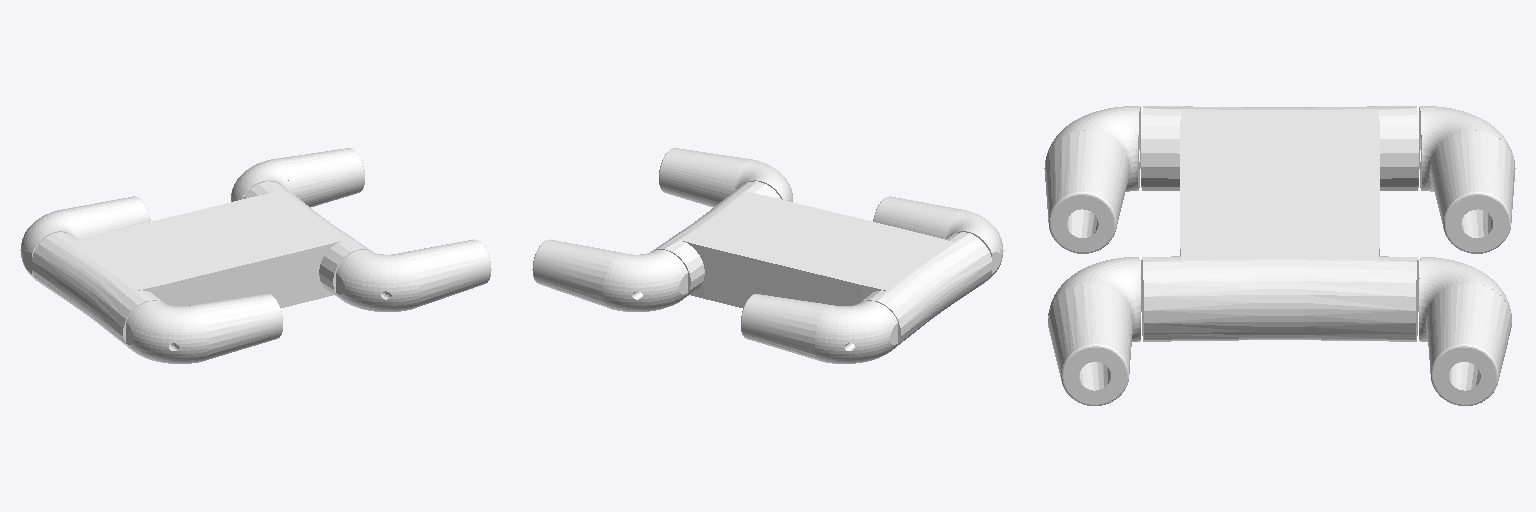
URDF robot description (2_degree):
<?xml version="1.0" encoding="utf-8"?>
<!-- This URDF was automatically created by SolidWorks to URDF Exporter! Originally created by [author] ([email redacted]) 
     Commit Version: 1.5.1-0-g916b5db  Build Version: 1.5.7152.31018
     For more information, please see http://wiki.ros.org/sw_urdf_exporter -->
<robot
  name="2_degree">
  <link
    name="base_link">
    <inertial>
      <origin
        xyz="3.4694E-17 9.4444E-09 -6.9389E-18"
        rpy="0 0 0" />
      <mass
        value="2.803" />
      <inertia
        ixx="0.010335444"
        ixy="2.1015E-18"
        ixz="-8.8627E-11"
        iyy="0.035324743"
        iyz="-1.9607E-18"
        izz="0.04329909" />
    </inertial>
    <visual>
      <origin
        xyz="0 0 0"
        rpy="0 0 0" />
      <geometry>
        <mesh
          filename="package://2_degree/meshes/base_link.STL" />
      </geometry>
      <material
        name="">
        <color
          rgba="1 1 1 1" />
      </material>
    </visual>
    <collision>
      <origin
        xyz="0 0 0"
        rpy="0 0 0" />
      <geometry>
        <mesh
          filename="package://2_degree/meshes/base_link.STL" />
      </geometry>
    </collision>
  </link>
  <link
    name="left_fromt_link">
    <inertial>
      <origin
        xyz="-2.1423E-07 0.050114 -0.03393"
        rpy="0 0 0" />
      <mass
        value="0.0786" />
      <inertia
        ixx="0.00017747"
        ixy="6.9597E-10"
        ixz="4.4881E-10"
        iyy="0.000044757"
        iyz="1.3594E-05"
        izz="0.000176053" />
    </inertial>
    <visual>
      <origin
        xyz="0 0 0"
        rpy="0 0 0" />
      <geometry>
        <mesh
          filename="package://2_degree/meshes/left_fromt_link.STL" />
      </geometry>
      <material
        name="">
        <color
          rgba="1 1 1 1" />
      </material>
    </visual>
    <collision>
      <origin
        xyz="0 0 0"
        rpy="0 0 0" />
      <geometry>
        <mesh
          filename="package://2_degree/meshes/left_fromt_link.STL" />
      </geometry>
    </collision>
  </link>
  <joint
    name="left_front_leg"
    type="continuous">
    <origin
      xyz="0.13359 0.10294 0"
      rpy="1.5708 1.5708 0" />
    <parent
      link="base_link" />
    <child
      link="left_fromt_link" />
    <axis
      xyz="0 0.034899 -0.99939" />
    <limit
      effort="5"
      velocity="487" />
  </joint>
  <link
    name="right_front_link">
    <inertial>
      <origin
        xyz="2.1423E-07 0.050114 0.03393"
        rpy="0 0 0" />
      <mass
        value="0.0786" />
      <inertia
        ixx="0.00017747"
        ixy="-6.9597E-10"
        ixz="4.4881E-10"
        iyy="0.000044757"
        iyz="-1.3594E-05"
        izz="0.000176053" />
    </inertial>
    <visual>
      <origin
        xyz="0 0 0"
        rpy="0 0 0" />
      <geometry>
        <mesh
          filename="package://2_degree/meshes/right_front_link.STL" />
      </geometry>
      <material
        name="">
        <color
          rgba="1 1 1 1" />
      </material>
    </visual>
    <collision>
      <origin
        xyz="0 0 0"
        rpy="0 0 0" />
      <geometry>
        <mesh
          filename="package://2_degree/meshes/right_front_link.STL" />
      </geometry>
    </collision>
  </link>
  <joint
    name="right_front_leg"
    type="continuous">
    <origin
      xyz="0.13359 -0.10294 0"
      rpy="1.5708 1.5708 0" />
    <parent
      link="base_link" />
    <child
      link="right_front_link" />
    <axis
      xyz="0 0.034899 0.99939" />
    <limit
      effort="5"
      velocity="487" />
  </joint>
  <link
    name="right_back_link">
    <inertial>
      <origin
        xyz="1.1578E-08 0.0489 0.035658"
        rpy="0 0 0" />
      <mass
        value="0.0786" />
      <inertia
        ixx="0.000177470"
        ixy="-4.3206E-10"
        ixz="5.085E-10"
        iyy="0.000045865"
        iyz="-1.814E-05"
        izz="0.000174945" />
    </inertial>
    <visual>
      <origin
        xyz="0 0 0"
        rpy="0 0 0" />
      <geometry>
        <mesh
          filename="package://2_degree/meshes/right_back_link.STL" />
      </geometry>
      <material
        name="">
        <color
          rgba="1 1 1 1" />
      </material>
    </visual>
    <collision>
      <origin
        xyz="0 0 0"
        rpy="0 0 0" />
      <geometry>
        <mesh
          filename="package://2_degree/meshes/right_back_link.STL" />
      </geometry>
    </collision>
  </link>
  <joint
    name="right_back_leg"
    type="continuous">
    <origin
      xyz="-0.13359 -0.10294 0"
      rpy="1.6057 1.5708 0" />
    <parent
      link="base_link" />
    <child
      link="right_back_link" />
    <axis
      xyz="0 0 1" />
    <limit
      effort="5"
      velocity="487" />
  </joint>
  <link
    name="left_back_link">
    <inertial>
      <origin
        xyz="-1.1578E-08 0.047626 -0.037343"
        rpy="0 0 0" />
      <mass
        value="0.0796" />
      <inertia
        ixx="0.00017747"
        ixy="4.4954E-10"
        ixz="4.9311E-10"
        iyy="0.000047288"
        iyz="0.000022598"
        izz="0.000173522" />
    </inertial>
    <visual>
      <origin
        xyz="0 0 0"
        rpy="0 0 0" />
      <geometry>
        <mesh
          filename="package://2_degree/meshes/left_back_link.STL" />
      </geometry>
      <material
        name="">
        <color
          rgba="1 1 1 1" />
      </material>
    </visual>
    <collision>
      <origin
        xyz="0 0 0"
        rpy="0 0 0" />
      <geometry>
        <mesh
          filename="package://2_degree/meshes/left_back_link.STL" />
      </geometry>
    </collision>
  </link>
  <joint
    name="left_back_leg"
    type="continuous">
    <origin
      xyz="-0.13359 0.10294 0"
      rpy="1.5708 1.5708 0" />
    <parent
      link="base_link" />
    <child
      link="left_back_link" />
    <axis
      xyz="0 -0.034899 -0.99939" />
    <limit
      effort="5"
      velocity="487" />
  </joint>
</robot>

--- What the picture shows (computed from the rendered views, not written in the file) ---
Views: 3 orthographic renders of the robot side by side, from view 1: azimuth 30°, elevation 25°; view 2: azimuth 150°, elevation 25°; view 3: azimuth 270°, elevation 25°.
Robot: 2_degree — 5 links, 4 joints (4 continuous); root link base_link; default pose: every joint at zero.
Visible links, largest first — view 1: base_link, right_back_link, right_front_link, left_fromt_link, left_back_link; view 2: base_link, left_back_link, left_fromt_link, right_front_link, right_back_link; view 3: base_link, right_back_link, left_back_link, left_fromt_link, right_front_link.
Link boxes in pixels (x1=…): base_link: x1=31, y1=181, x2=372, y2=348; right_back_link: x1=126, y1=294, x2=282, y2=363; right_front_link: x1=336, y1=239, x2=491, y2=311; left_fromt_link: x1=231, y1=148, x2=364, y2=207; left_back_link: x1=20, y1=196, x2=150, y2=280; base_link: x1=651, y1=181, x2=992, y2=348; left_back_link: x1=741, y1=294, x2=897, y2=363; left_fromt_link: x1=532, y1=239, x2=687, y2=311; right_front_link: x1=659, y1=148, x2=792, y2=207; right_back_link: x1=873, y1=196, x2=1003, y2=280; base_link: x1=1141, y1=106, x2=1418, y2=341; right_back_link: x1=1044, y1=106, x2=1140, y2=253; left_back_link: x1=1419, y1=106, x2=1515, y2=253; left_fromt_link: x1=1419, y1=257, x2=1511, y2=405; right_front_link: x1=1048, y1=257, x2=1140, y2=405.
Size in the robot's own frame: 0.436 by 0.3528 by 0.064 metres.
Meshes: 5 distinct files referenced, 5 mesh visuals loaded (5 binary STL).